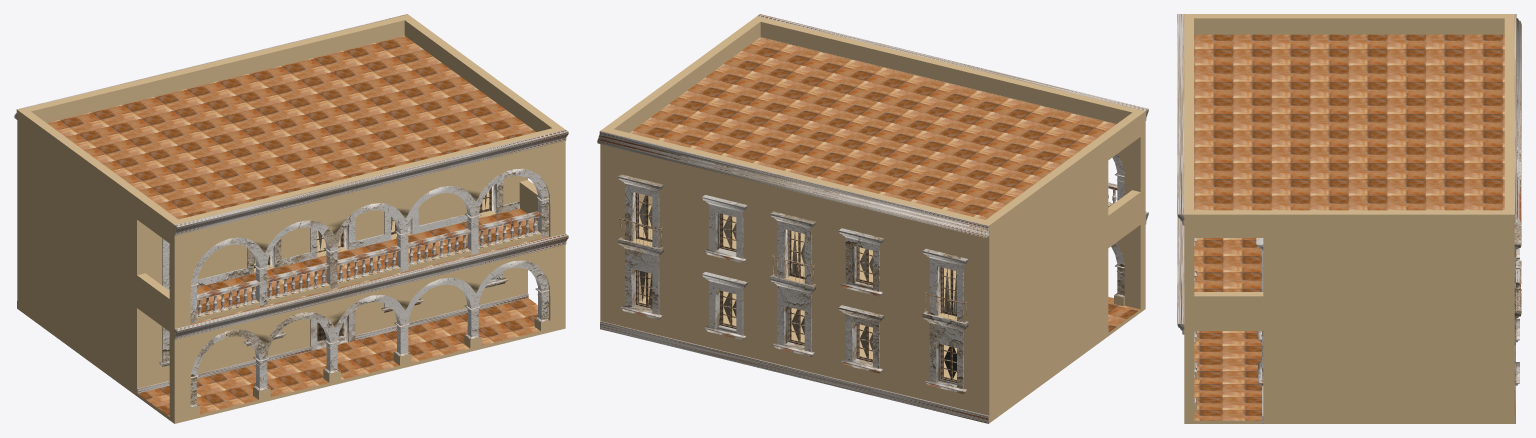
File: PortalesGrandes.fbx
3 views of the same model, side by side, from view 1: azimuth 30°, elevation 25°; view 2: azimuth 150°, elevation 25°; view 3: azimuth 270°, elevation 25° (orthographic). The views are drawn at different scales.
Parts seen in each view (by area): view 1: 3dSolid.041; view 2: 3dSolid.041; view 3: 3dSolid.041.
Boxes of the visible parts, <box> form: 3dSolid.041: <box>14,14,568,423</box>; 3dSolid.041: <box>597,14,1148,423</box>; 3dSolid.041: <box>1177,14,1521,423</box>.
Bounding box in the file's own units: 1850 × 900 × 1341.
